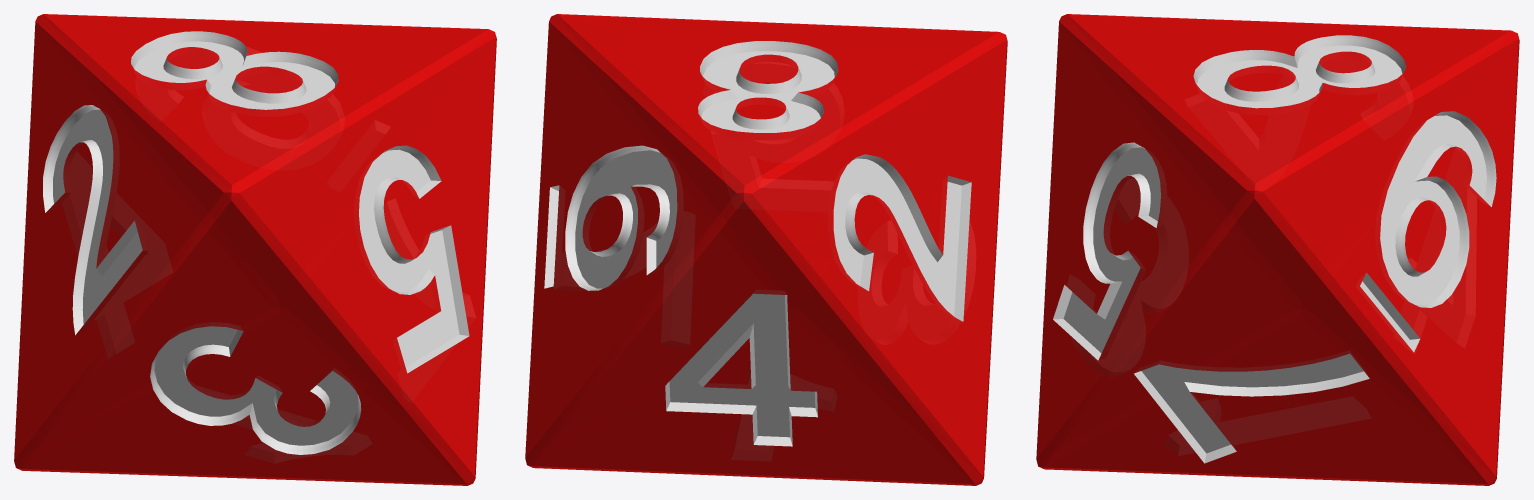
The picture shows the model from 3 angles, left to right: view 1: azimuth 30°, elevation 25°; view 2: azimuth 150°, elevation 25°; view 3: azimuth 270°, elevation 25°; orthographic projection.
Parts seen in each view (by area): view 1: export.006; view 2: export.006; view 3: export.006.
Boxes of the visible parts, x1,y1,x2,y2 form: export.006: (14,14,496,485); export.006: (525,14,1007,485); export.006: (1036,14,1519,485).
Size of the model in its own units: 0.0489 by 0.0356 by 0.0447.
